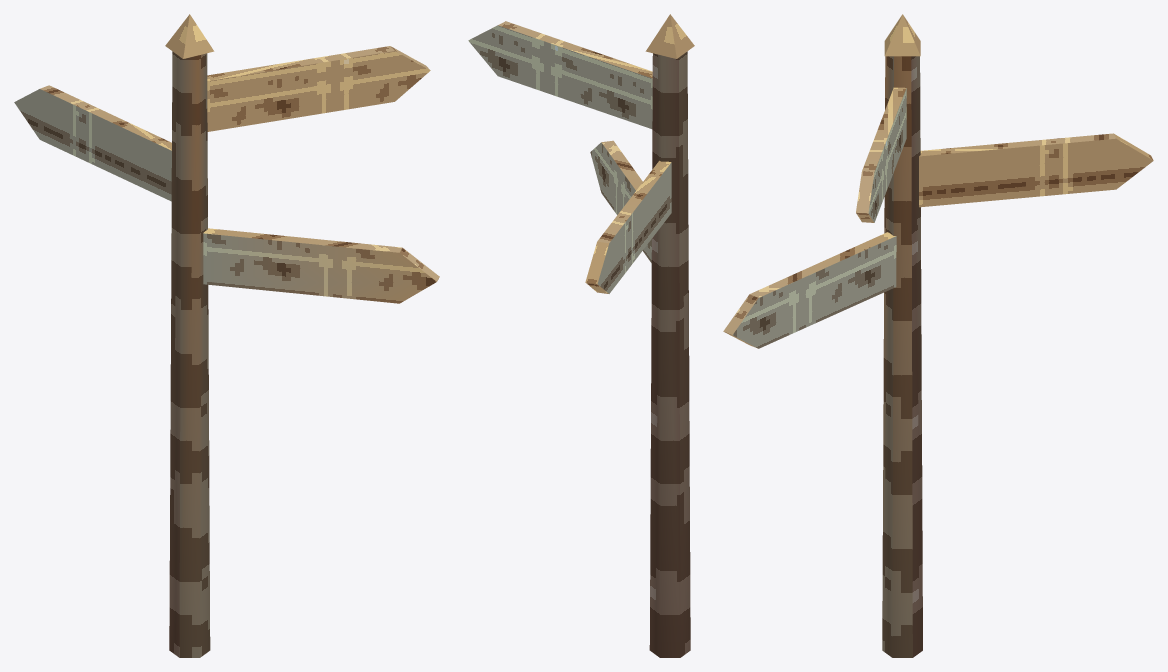
File: wprop.signpost.glb
3 renders of one model, left to right at view 1: azimuth 30°, elevation 25°; view 2: azimuth 150°, elevation 25°; view 3: azimuth 270°, elevation 25°, orthographic.
Parts seen in each view (by area): view 1: kit_boards, kit_post, kit_cap; view 2: kit_post, kit_boards, kit_cap; view 3: kit_boards, kit_post, kit_cap.
Part boxes in pixels (x1=…): kit_boards: x1=14, y1=46, x2=439, y2=303; kit_post: x1=169, y1=51, x2=210, y2=657; kit_cap: x1=165, y1=14, x2=214, y2=58; kit_post: x1=649, y1=51, x2=690, y2=657; kit_boards: x1=468, y1=21, x2=671, y2=293; kit_cap: x1=645, y1=14, x2=694, y2=58; kit_boards: x1=723, y1=87, x2=1153, y2=348; kit_post: x1=882, y1=56, x2=922, y2=657; kit_cap: x1=884, y1=14, x2=920, y2=56.
Size of the model in its own units: 1.22 by 2.75 by 1.69.
3 materials, 3 textured.
